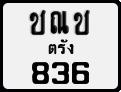letters: (73, 8, 91, 36), (50, 10, 69, 34), (31, 61, 50, 85), (71, 61, 90, 85), (51, 61, 70, 84), (29, 10, 46, 35)
province: (48, 38, 74, 55)
